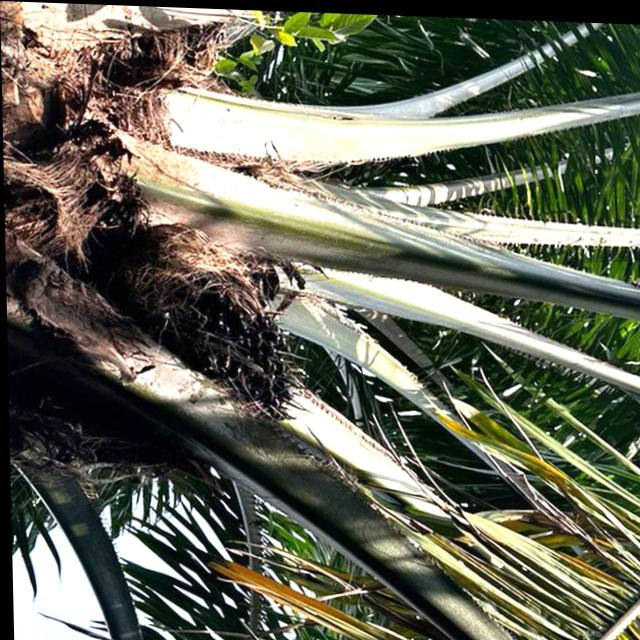almost: (126, 216, 314, 421)
